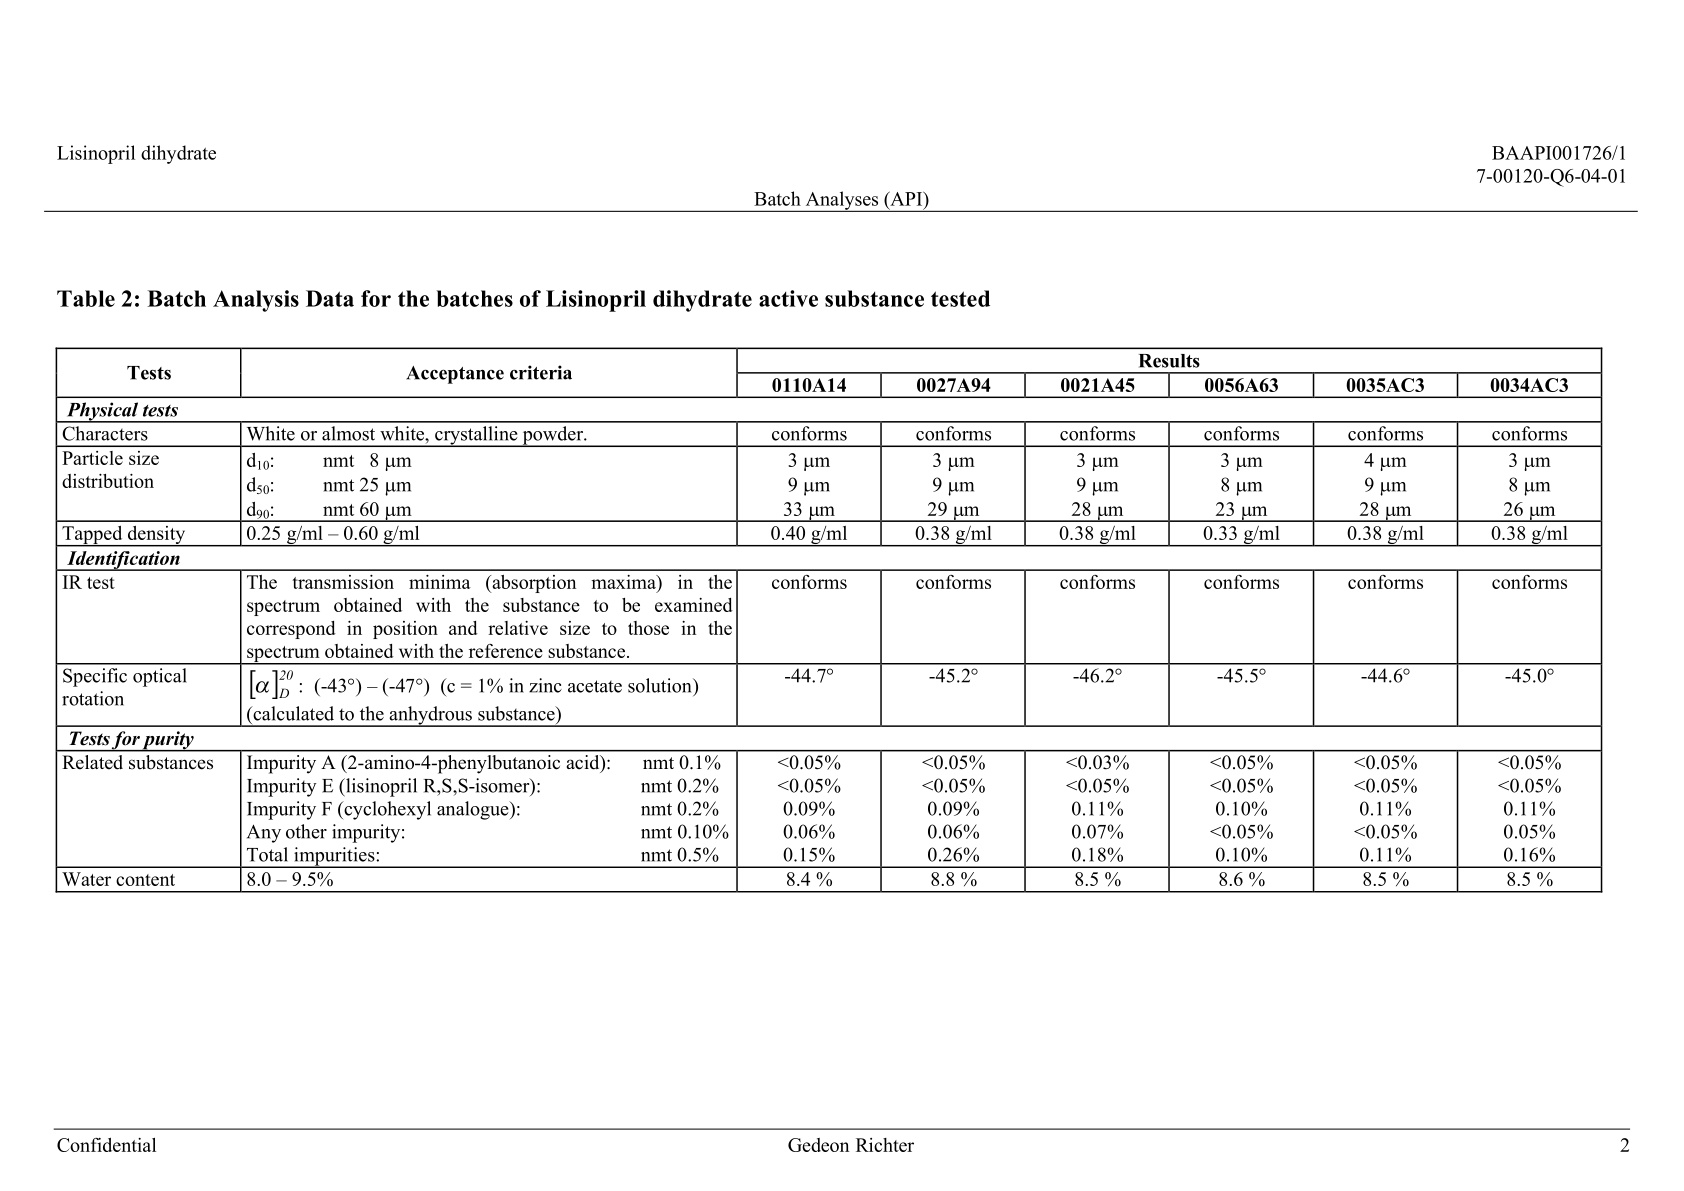merged_cells: (54, 345, 1603, 895)
